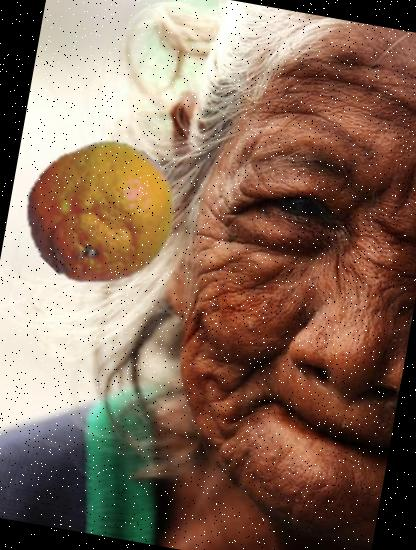Mandarine: (16, 127, 186, 298)
